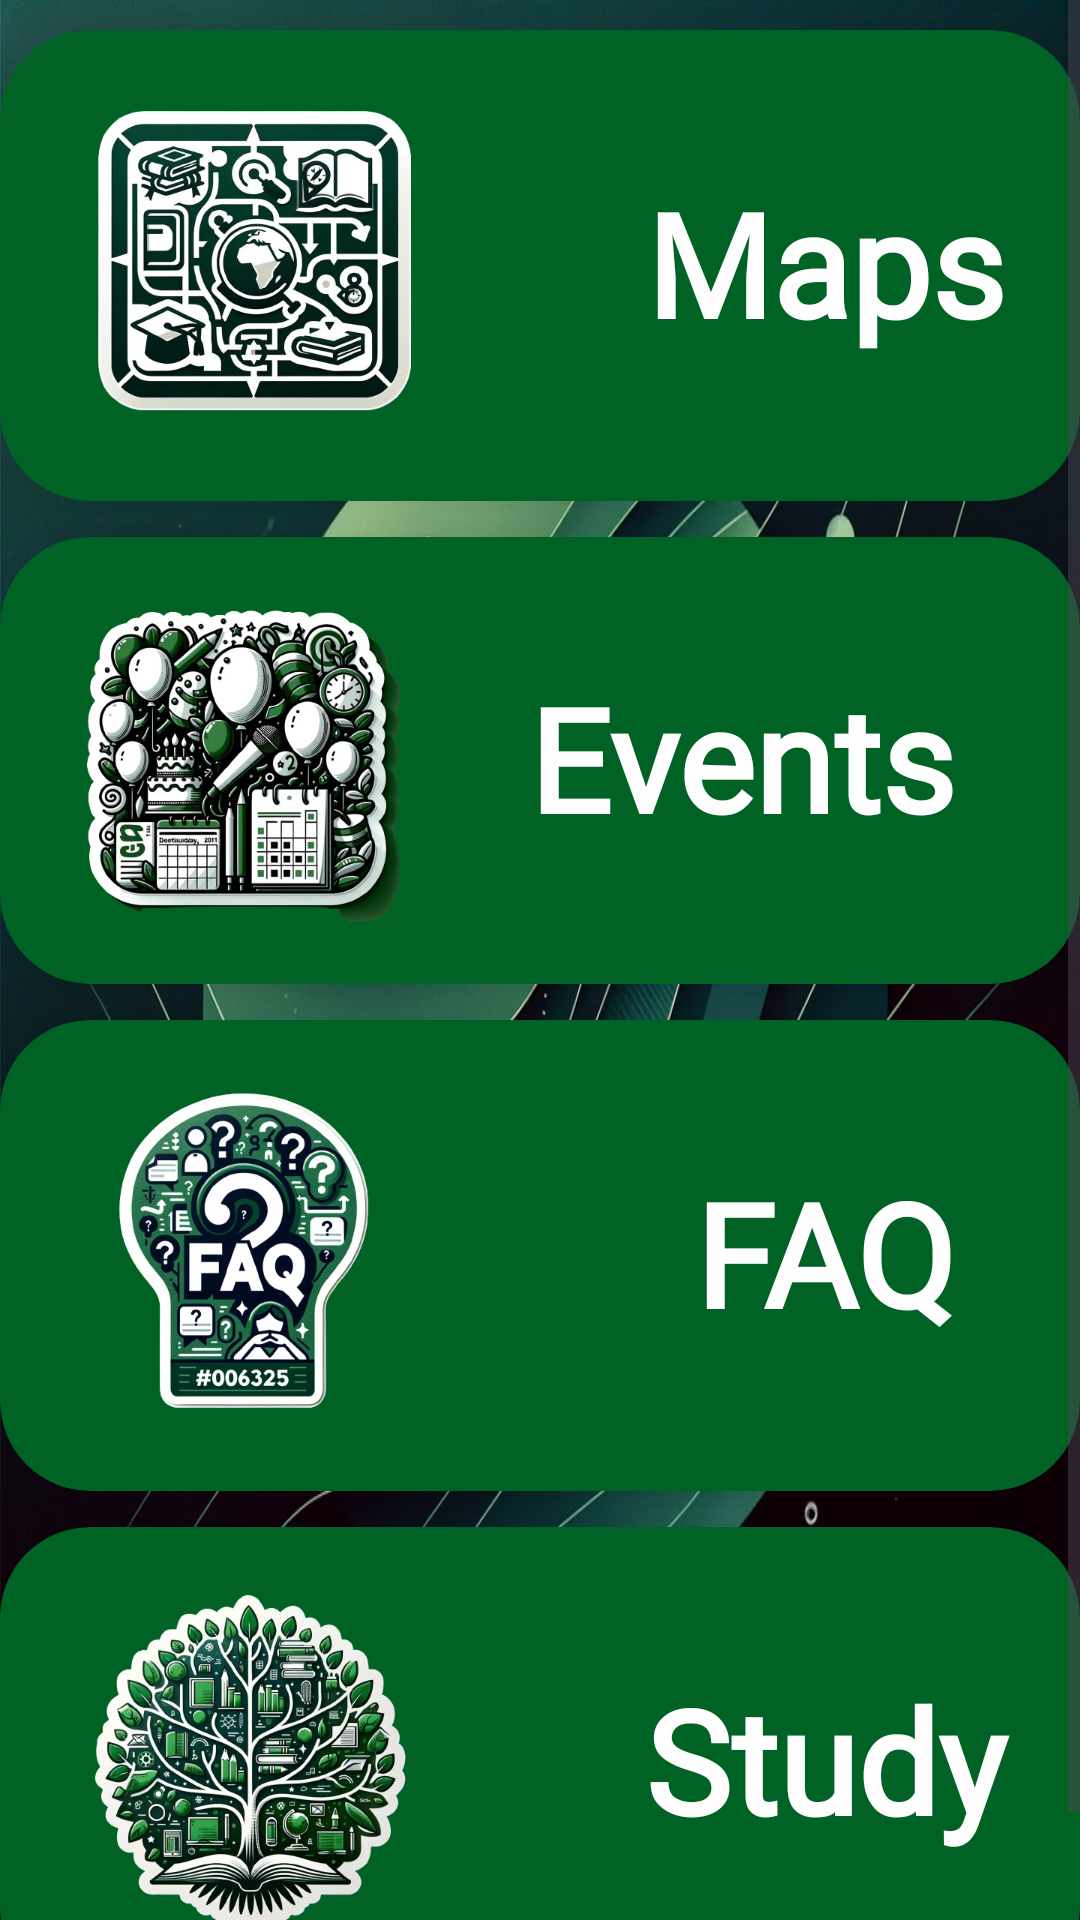

Icons on this 1080px x 1920px Android screen, each with its box as (x1, y1, x2, y2):
map: (98, 111, 411, 411)
